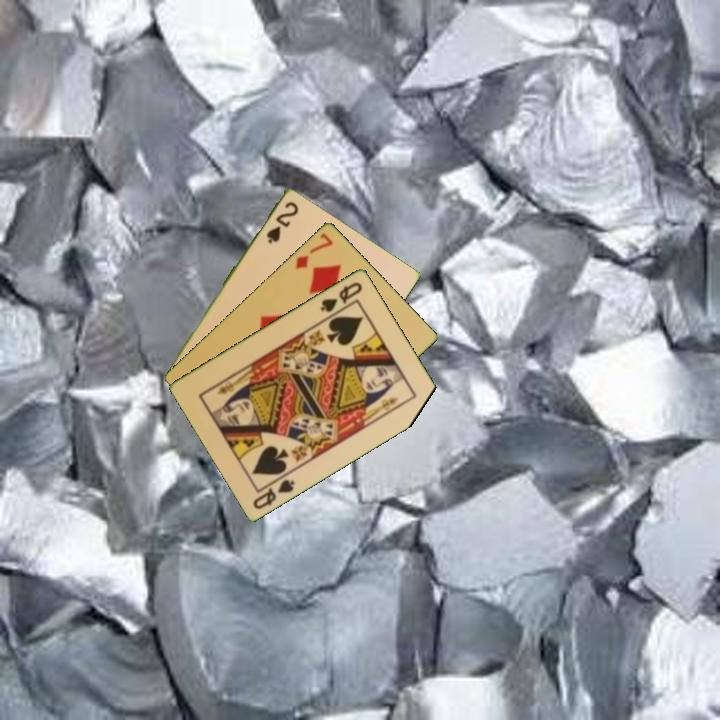2s: (263, 197, 301, 246)
7d: (292, 229, 336, 272)
Qs: (249, 469, 298, 512), (316, 278, 365, 315)
